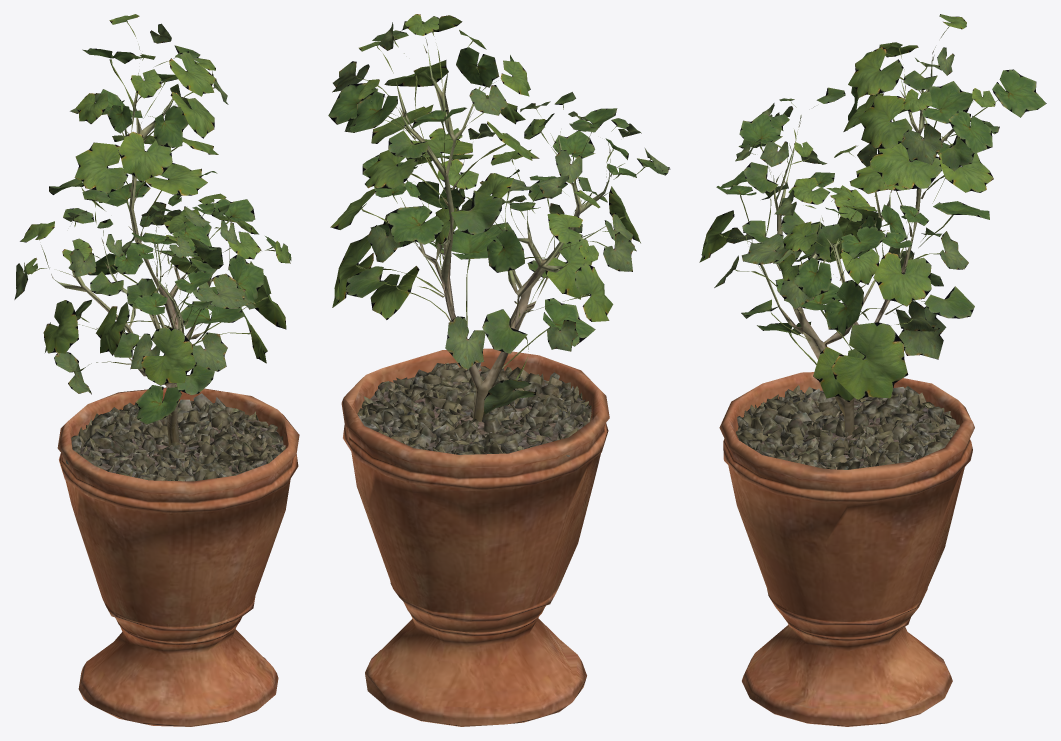
The model's file is potted_plant_01.glb.
3 renders of one model, left to right at view 1: azimuth 30°, elevation 25°; view 2: azimuth 150°, elevation 25°; view 3: azimuth 270°, elevation 25°, orthographic. The views are drawn at different scales.
Parts seen in each view (by area): view 1: potted_plant_01_pot, potted_plant_01_leaves; view 2: potted_plant_01_pot, potted_plant_01_leaves; view 3: potted_plant_01_pot, potted_plant_01_leaves.
Boxes of the visible parts, x1=… form: potted_plant_01_pot: x1=54, y1=73, x2=299, y2=726; potted_plant_01_leaves: x1=14, y1=14, x2=291, y2=424; potted_plant_01_pot: x1=341, y1=50, x2=610, y2=726; potted_plant_01_leaves: x1=328, y1=14, x2=670, y2=414; potted_plant_01_pot: x1=719, y1=57, x2=974, y2=726; potted_plant_01_leaves: x1=699, y1=14, x2=1046, y2=401.
Bounding box in the file's own units: 0.5862 × 1.34 × 0.6336.
Materials: 2 (2 with a texture image).
